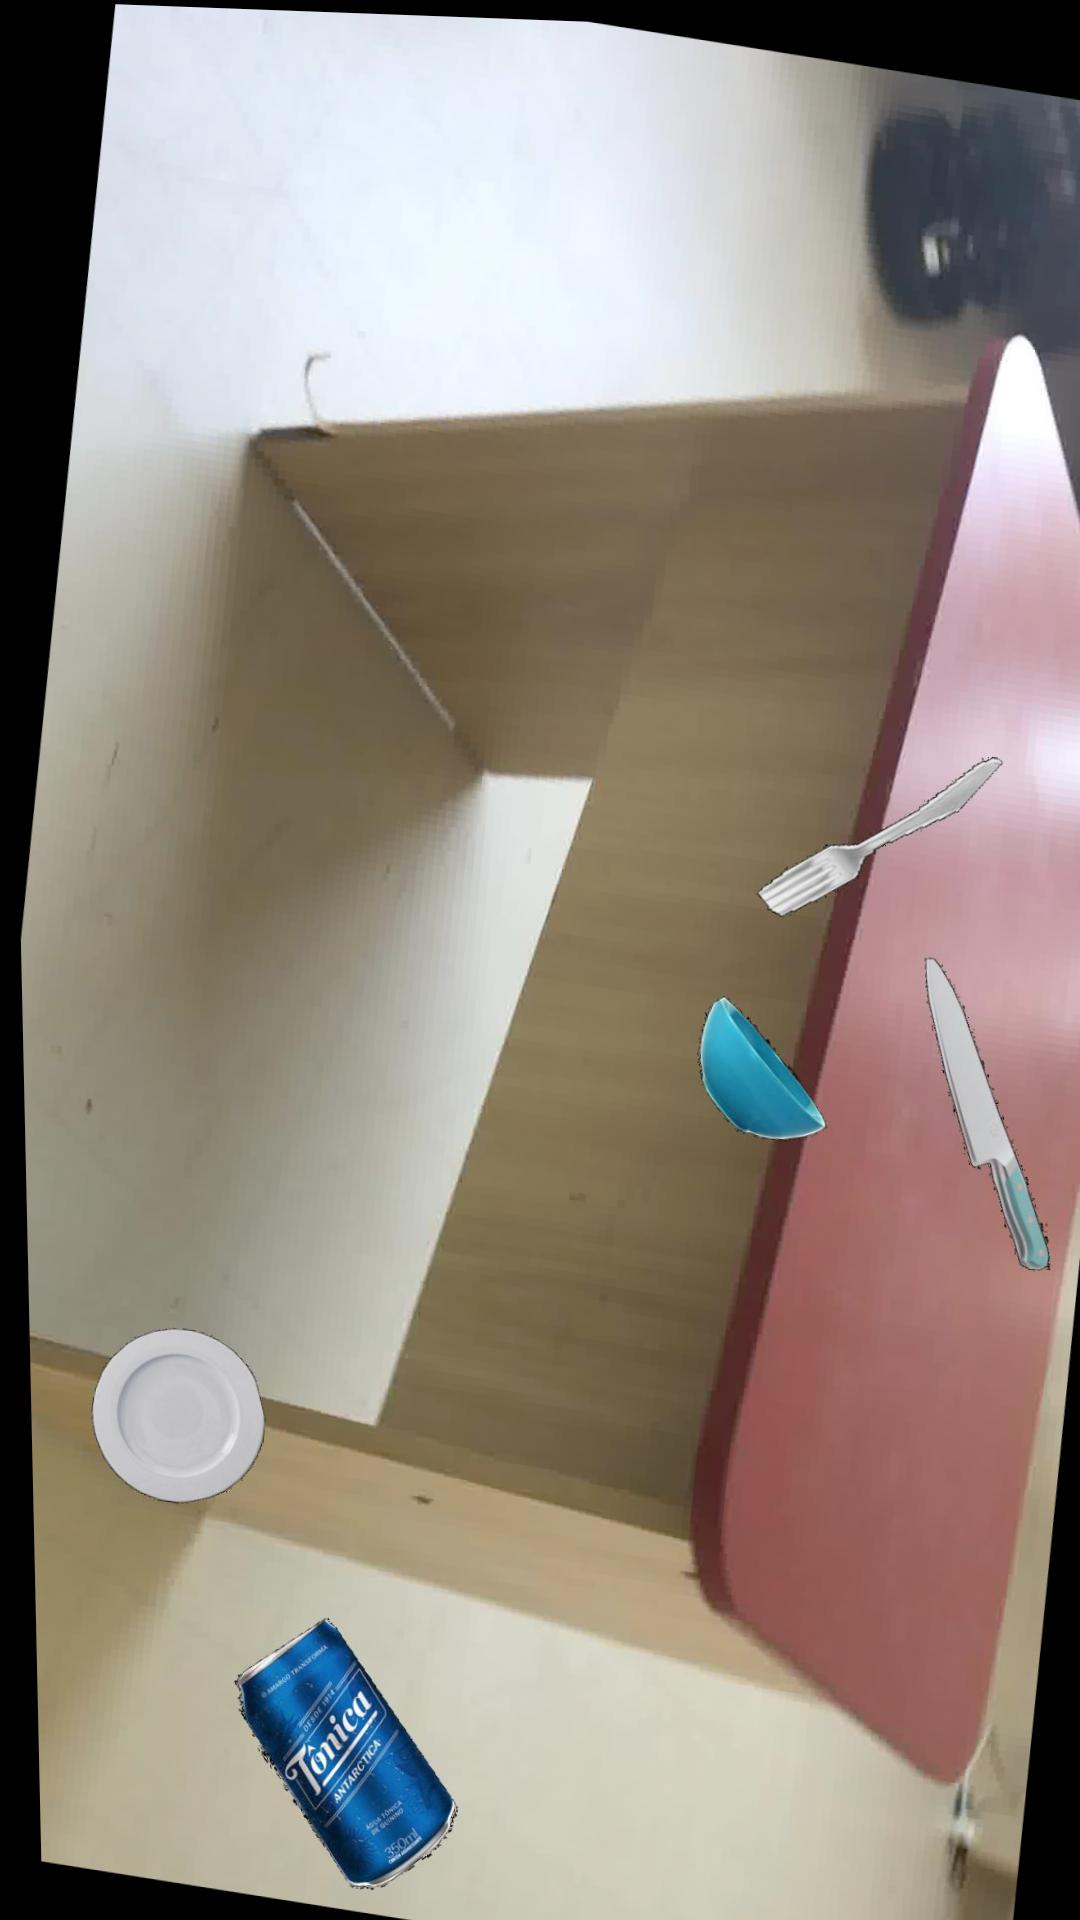bowl: (691, 988, 818, 1131)
fork: (750, 746, 997, 907)
knife: (918, 948, 1042, 1259)
plate: (82, 1324, 256, 1499)
tonic: (223, 1613, 444, 1883)
